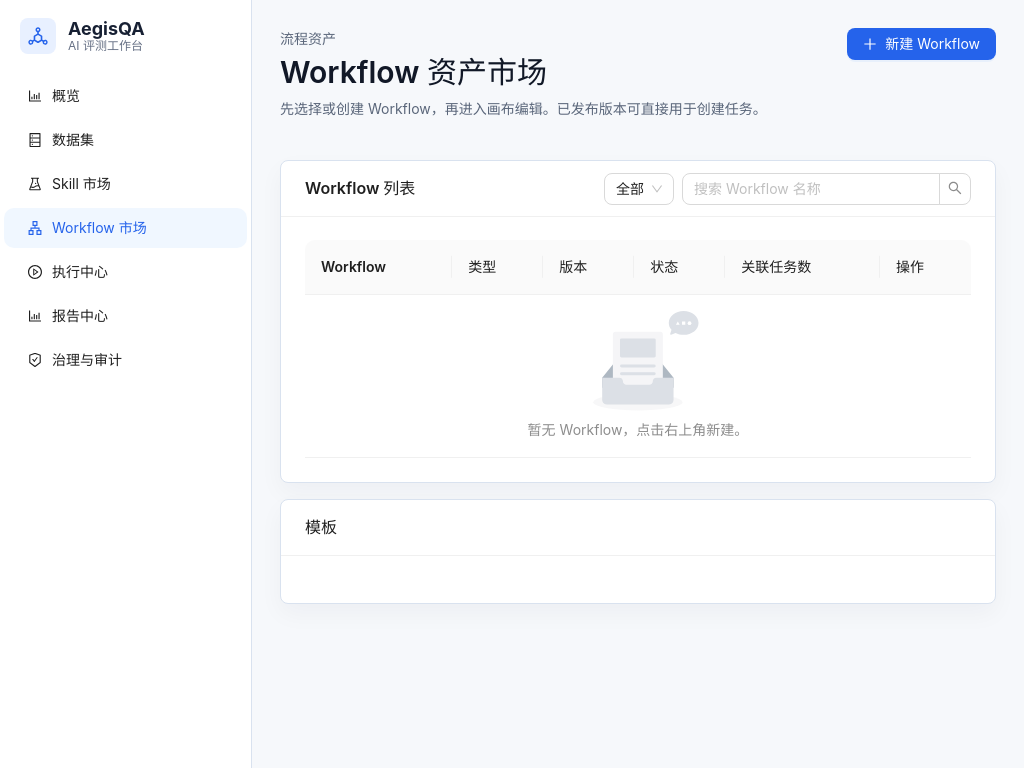
Test: AegisQA 前端工作台 › Workflow 市场支持删除草稿、复制草稿和按状态筛选
The image size is (1024, 768).
Expected: the text "Workflow 列表" is shown, [305,178,415,198]
Press the mouse on the dropdown named "Workflow 状态筛选" at [639, 188], box [616,174,662,204]
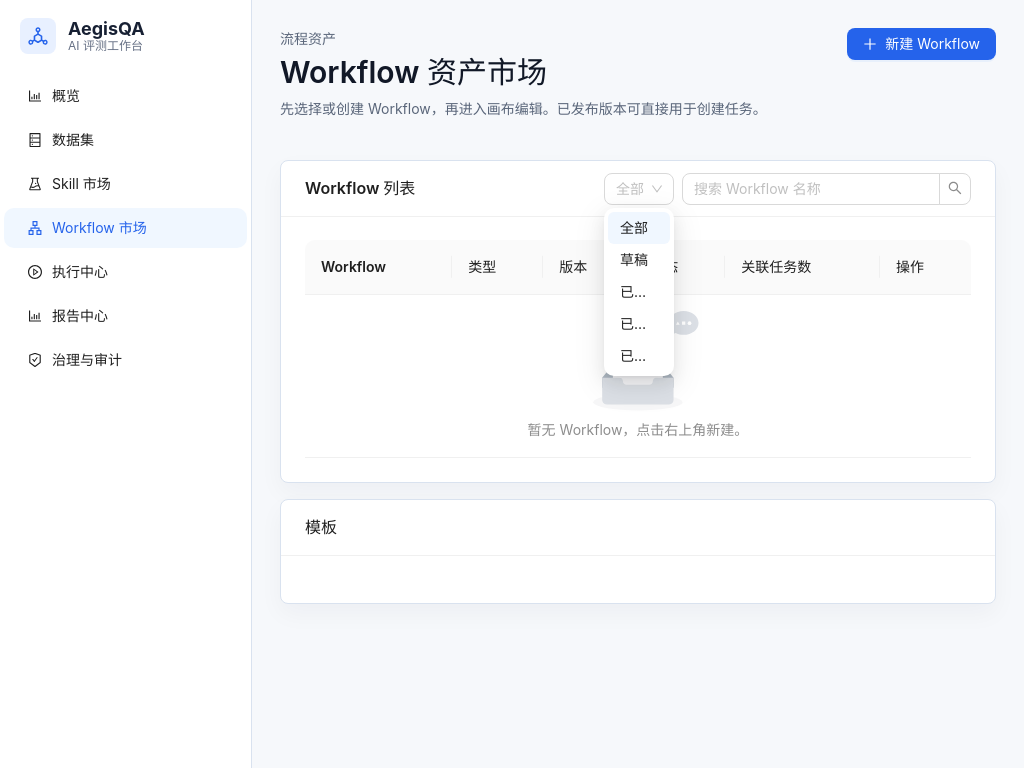
Result: the text "草稿" is shown
Click the text "草稿" at [634, 260], box [620,251,648,268]
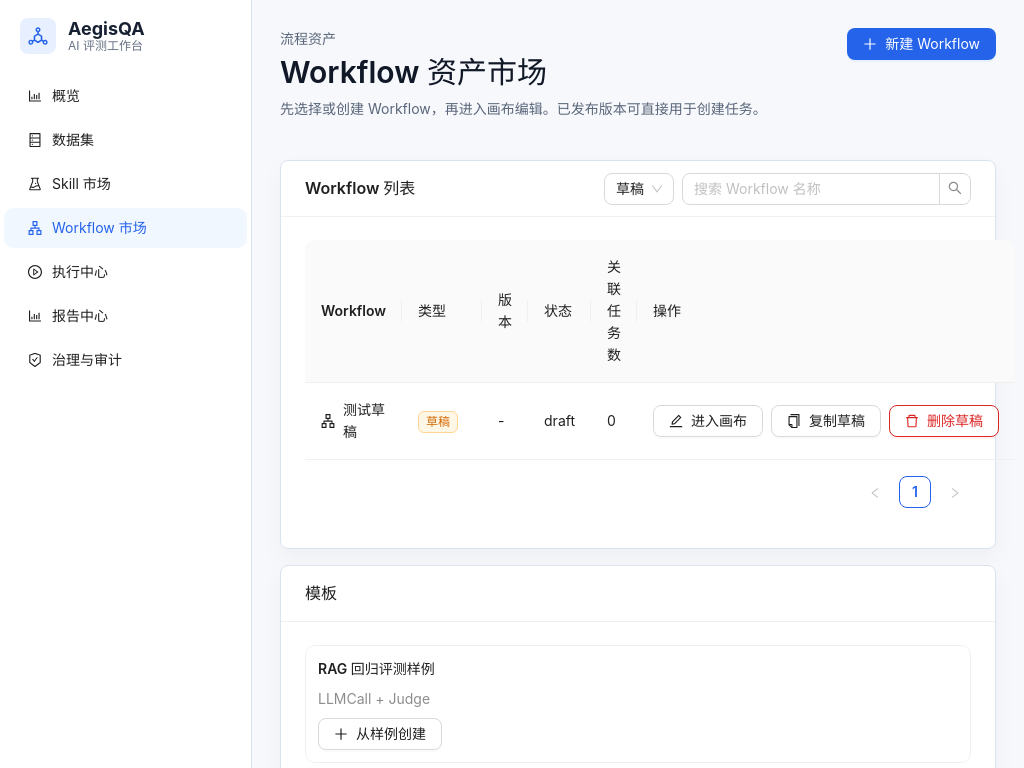
Result: the text "测试草稿" is shown at [343,401,385,440]
Click the button "复制草稿" at [826, 421], box [771,405,881,437]
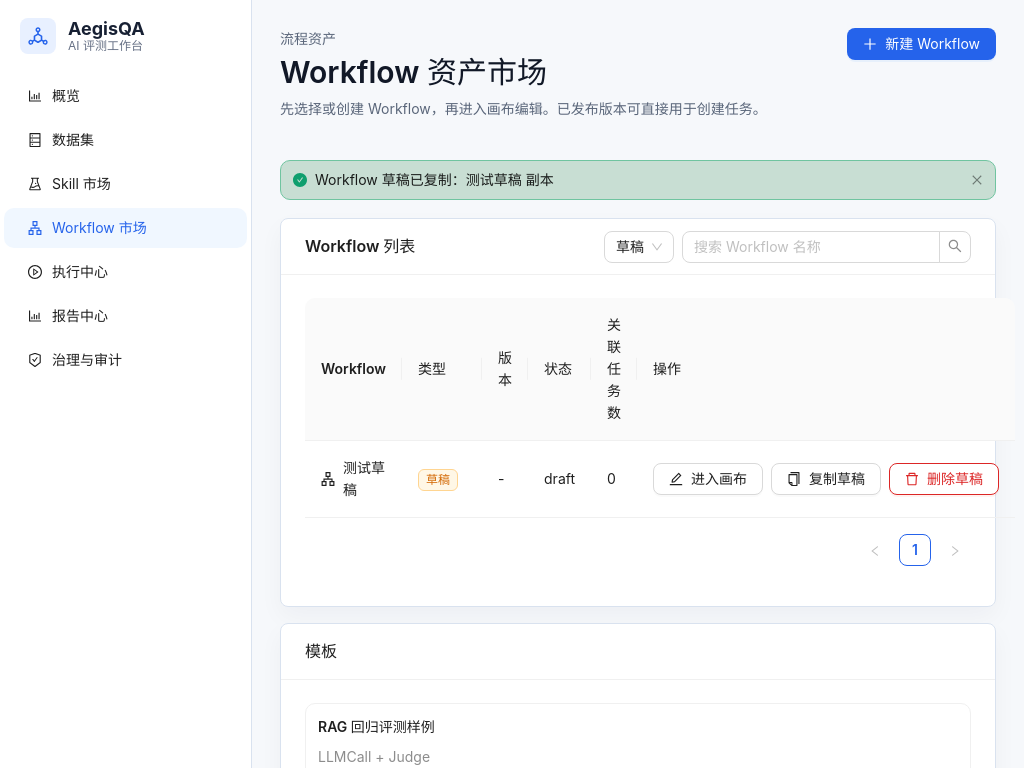
Result: the text "Workflow 草稿已复制：测试草稿 副本" is shown at [315,171,554,188]
Click the button "删除草稿" at [944, 479], box [889,463,999,495]
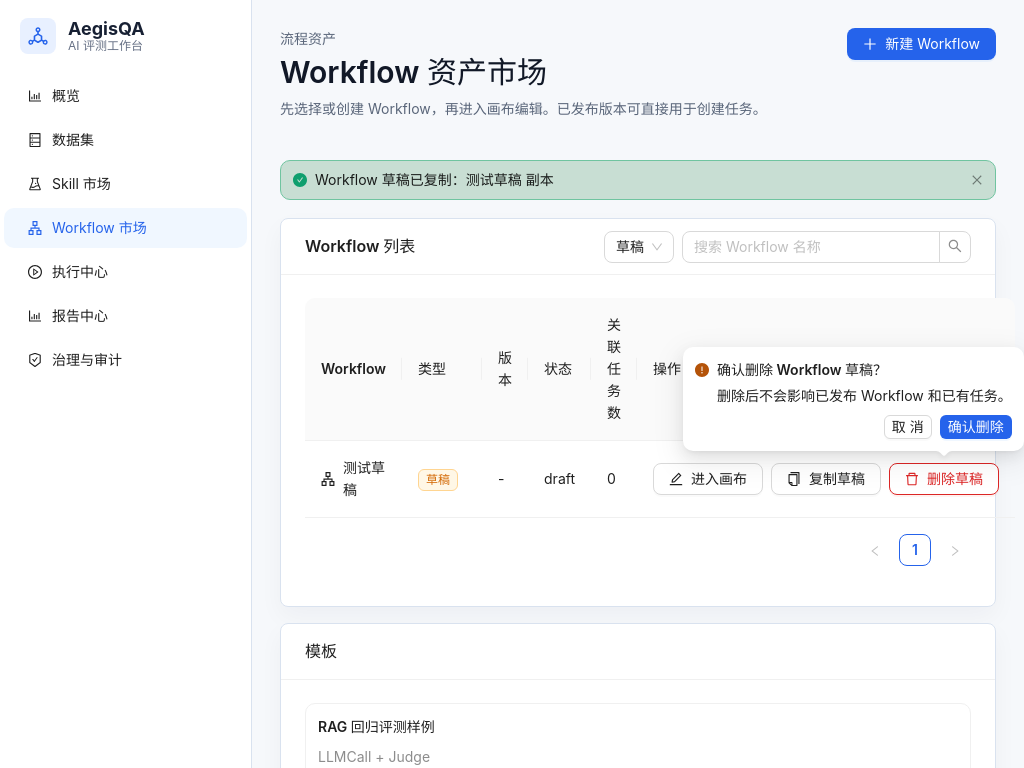
Click the button "确认删除" at [976, 427], box [940,415,1012,439]
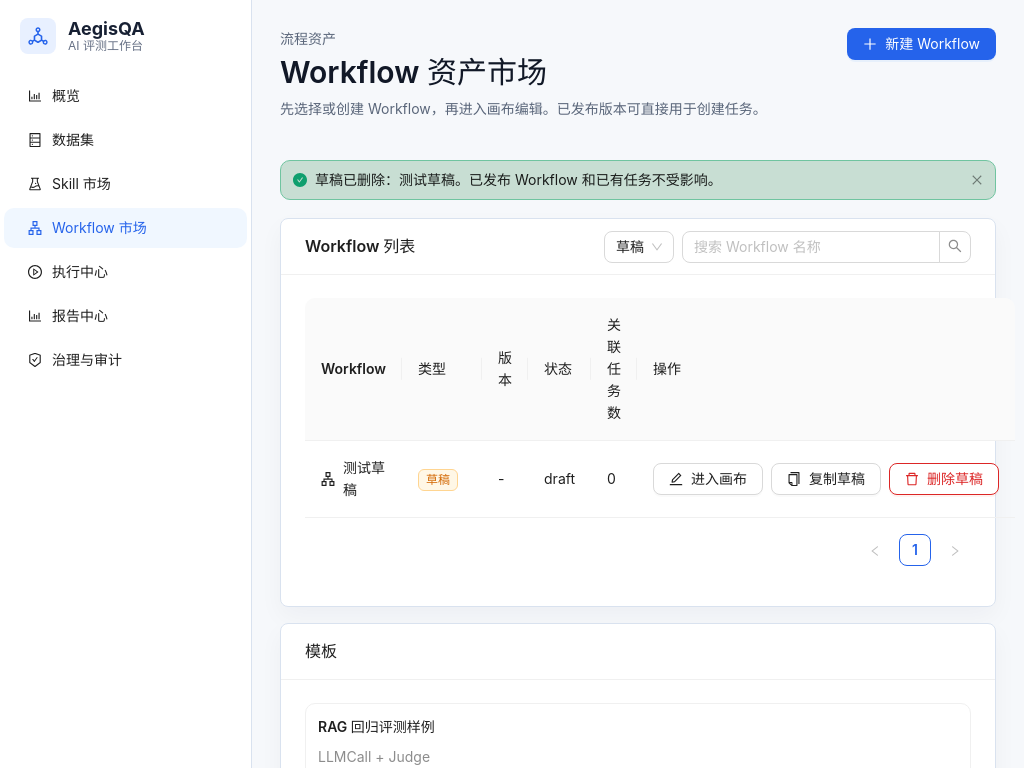
Result: the text "草稿已删除：测试草稿。已发布 Workflow 和已有任务不受影响。" is shown at [315,171,722,188]
